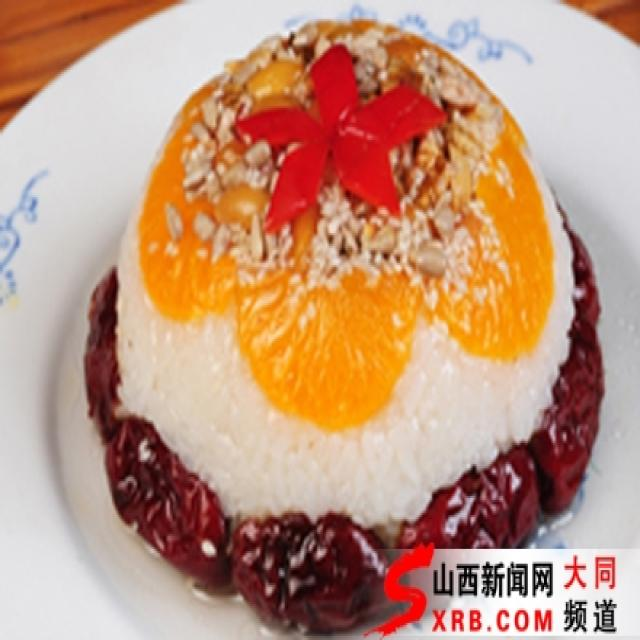米饭主食: (8, 11, 632, 634)
